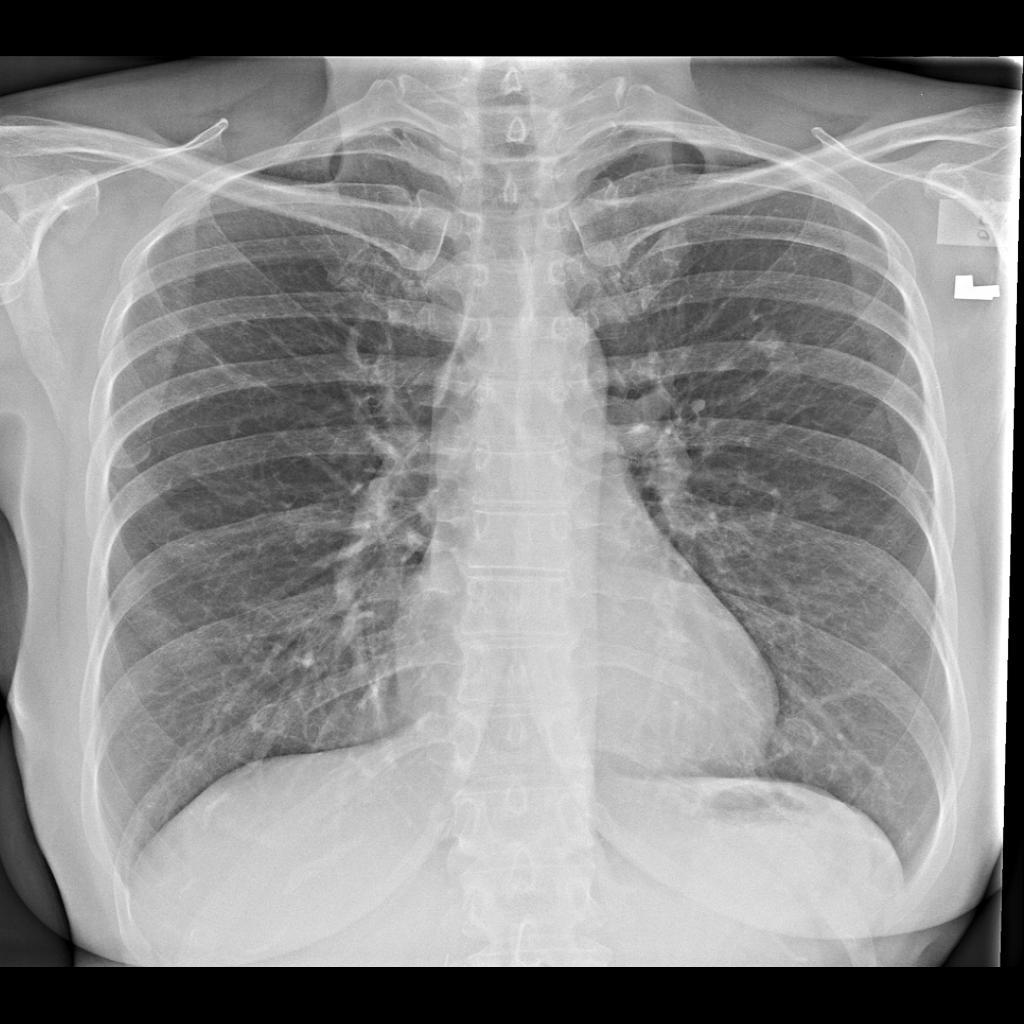Nodule: (756, 334, 807, 383), (820, 488, 844, 517), (152, 350, 178, 369)
